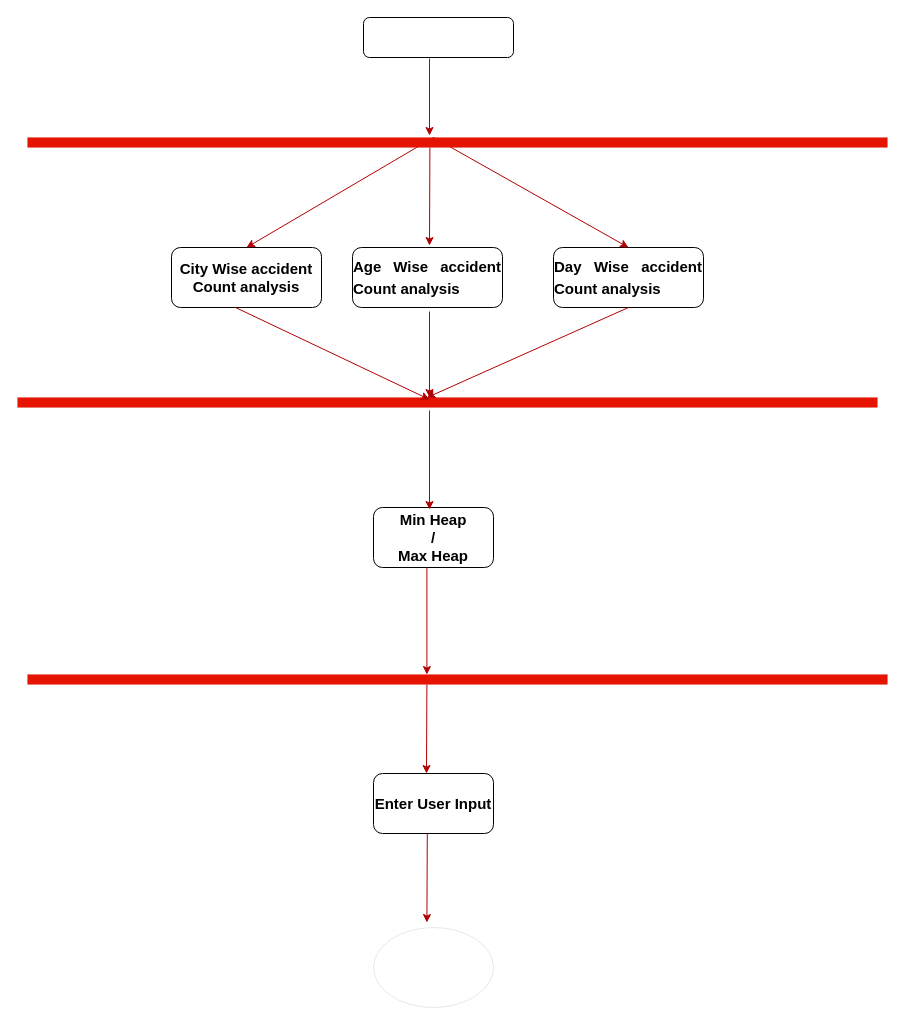
The diagram is 904 pixels wide and 1025 high, and some of its shapes have lost their labels. The centre of each missing label's shape, as x and y in pixels:
"Output" goes at point (433, 967).
"Select Experiments" goes at point (438, 37).
